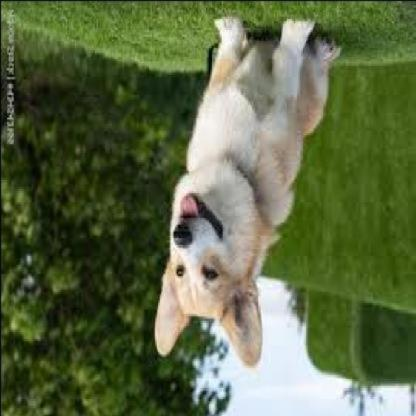dog: (153, 15, 342, 367)
